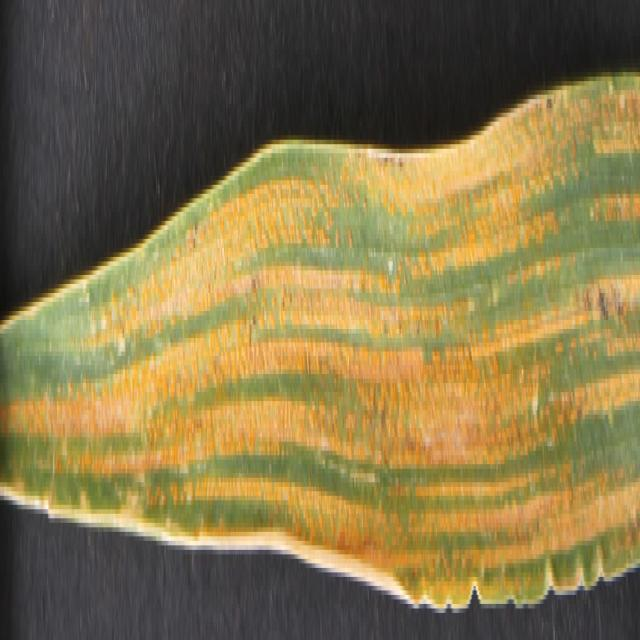leaf rust: (3, 68, 640, 586)
